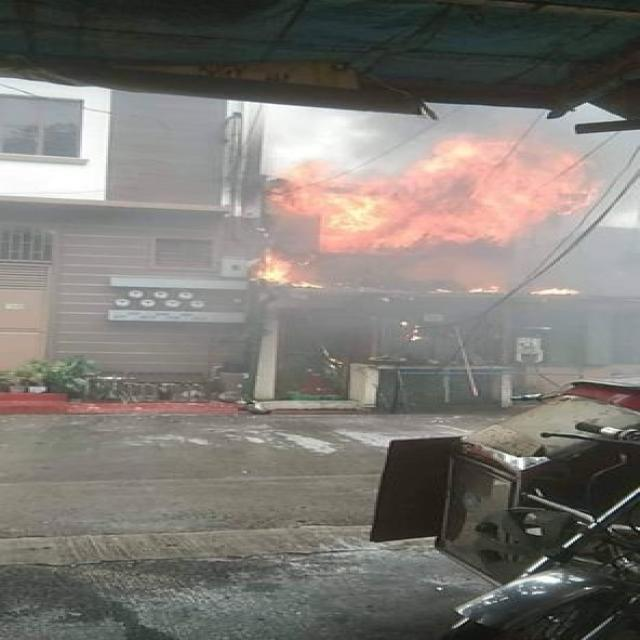Fire: (287, 134, 599, 276)
